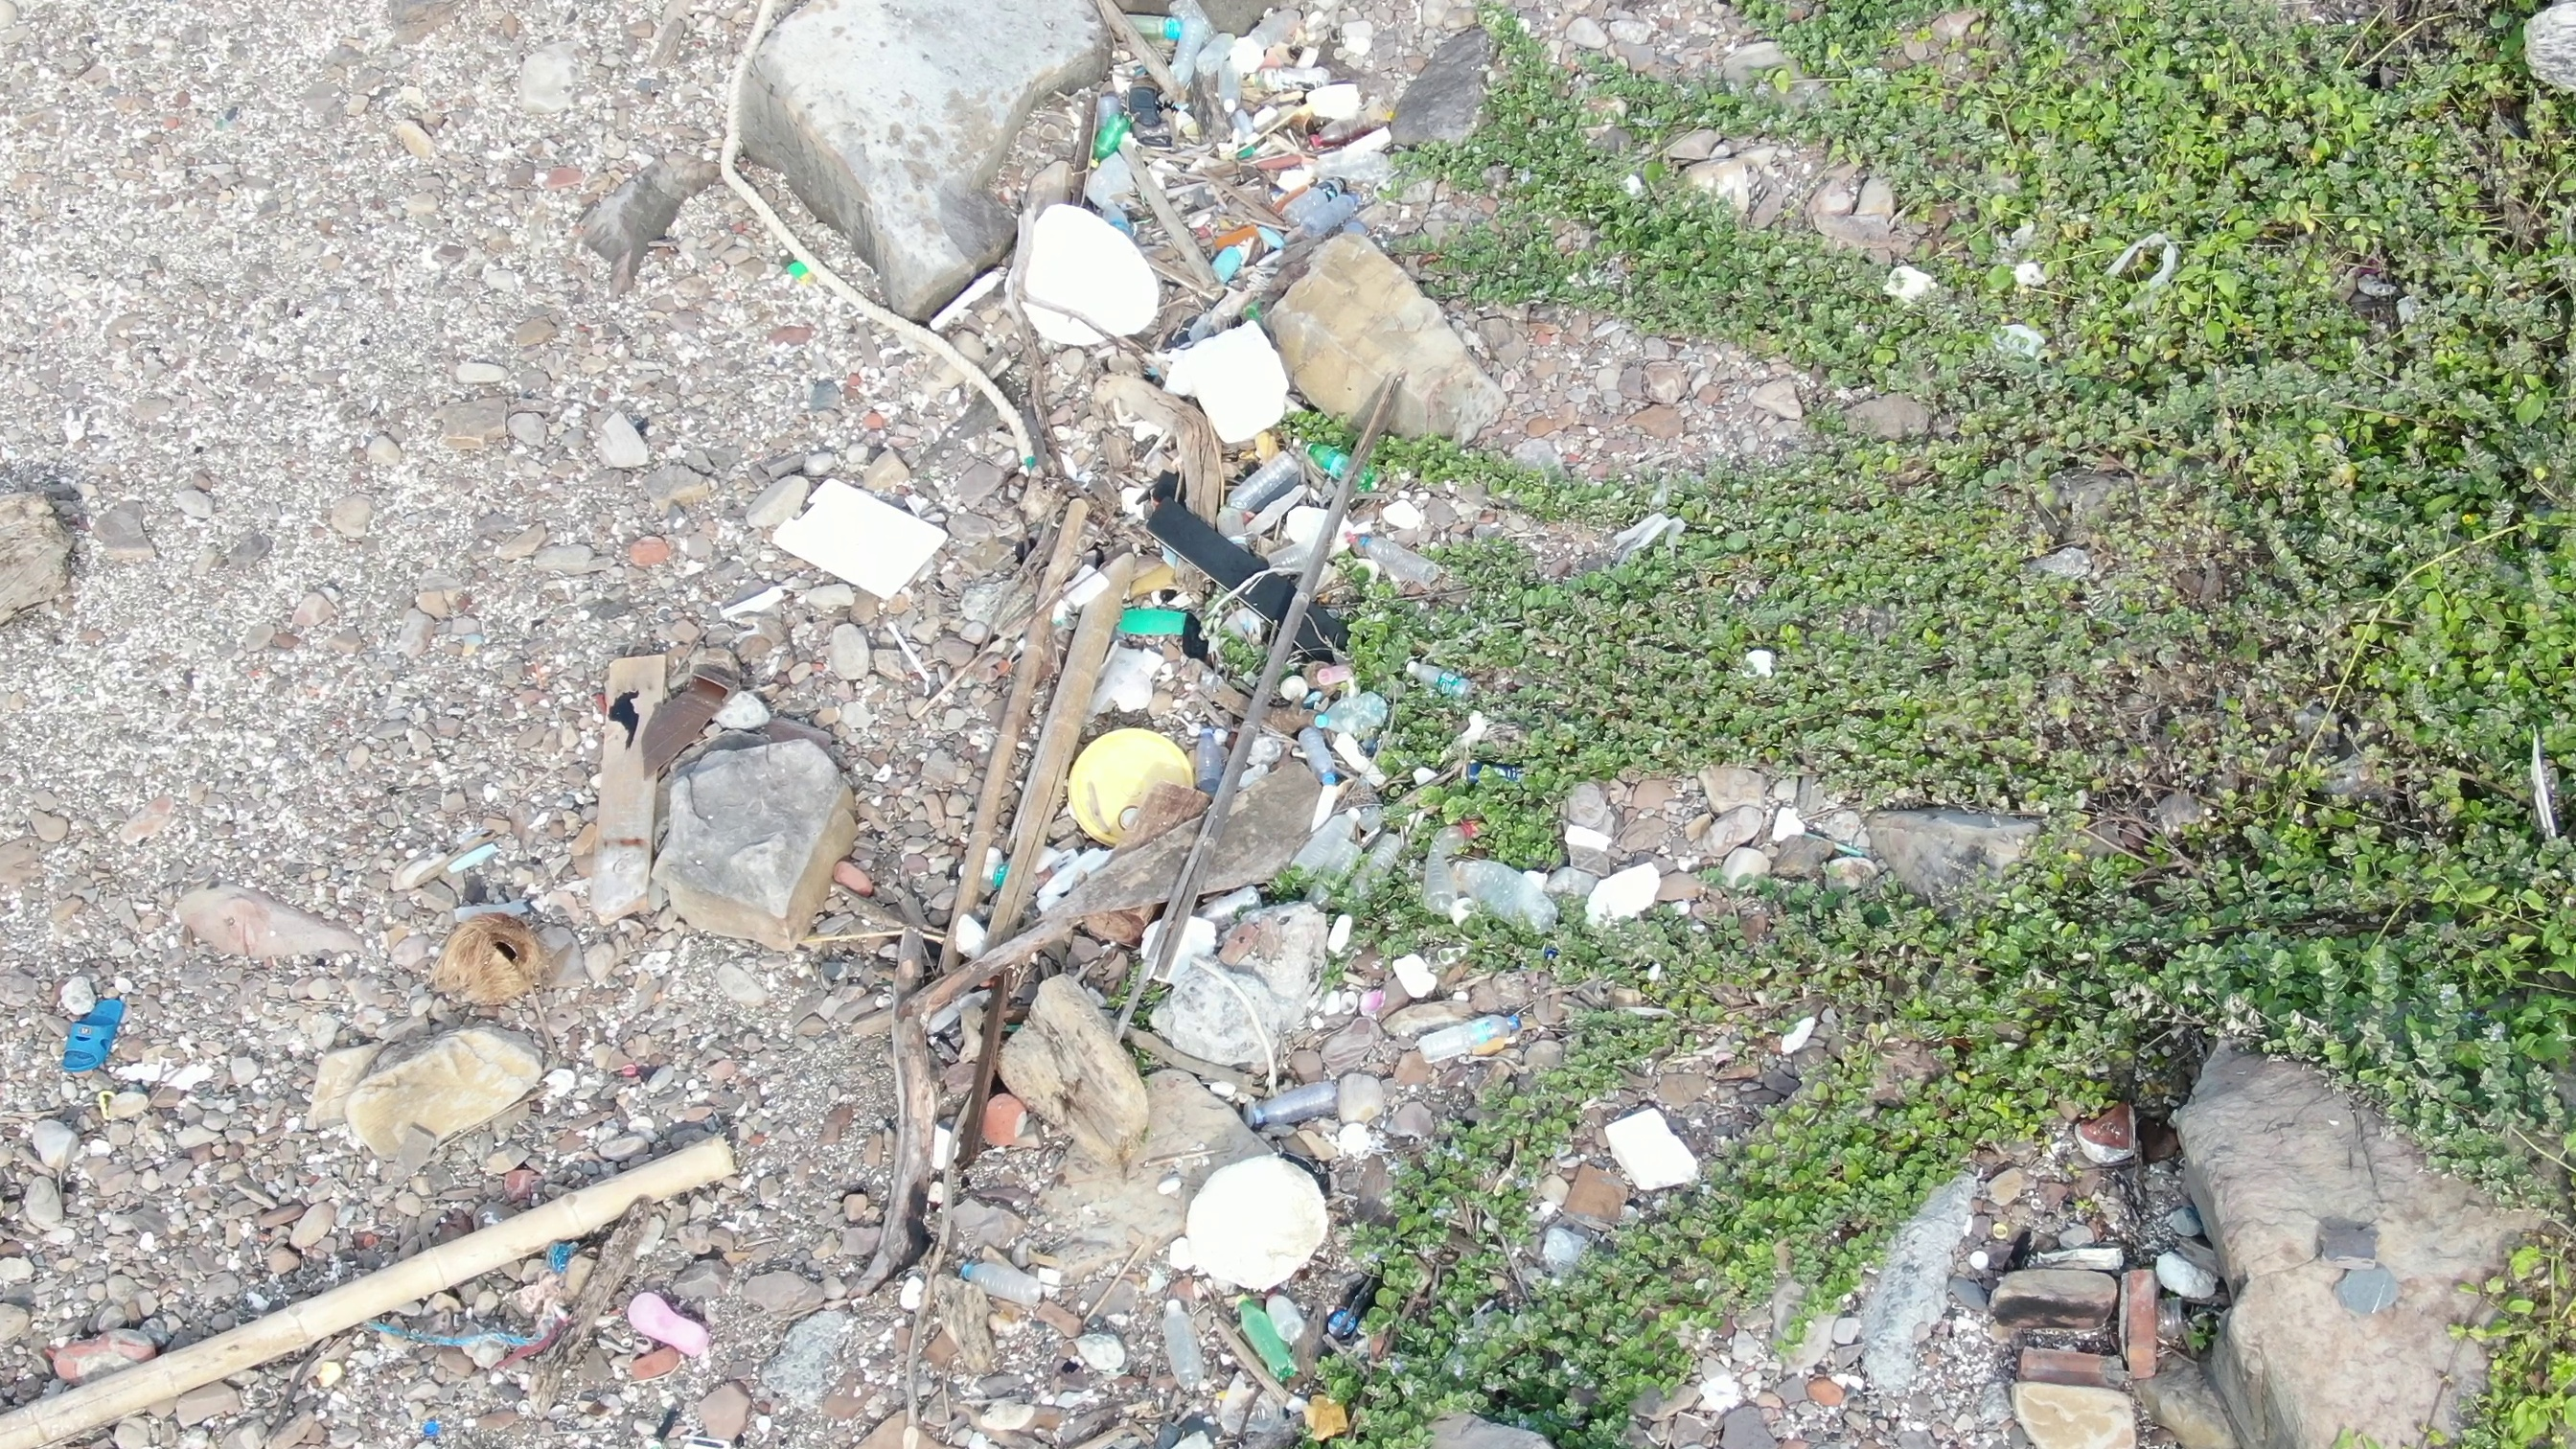bottle: (1461, 849, 1571, 950), (1226, 1281, 1316, 1394), (1238, 1053, 1353, 1139), (1210, 435, 1306, 527), (1398, 639, 1502, 722), (1293, 678, 1424, 740), (1415, 1010, 1534, 1074), (1155, 1292, 1215, 1394), (1419, 817, 1467, 925), (1272, 173, 1348, 239), (948, 1260, 1053, 1306), (1237, 9, 1313, 67), (1297, 432, 1371, 490), (1184, 722, 1237, 803), (1077, 104, 1143, 165), (1168, 2, 1203, 104), (1215, 60, 1249, 120), (1118, 11, 1177, 37)
garbage: (952, 4, 1529, 847), (1143, 973, 1527, 1449), (690, 2, 950, 377), (487, 651, 835, 789), (333, 1212, 632, 1361), (763, 462, 968, 623), (945, 844, 1106, 920), (51, 993, 134, 1074), (402, 1410, 456, 1445)
